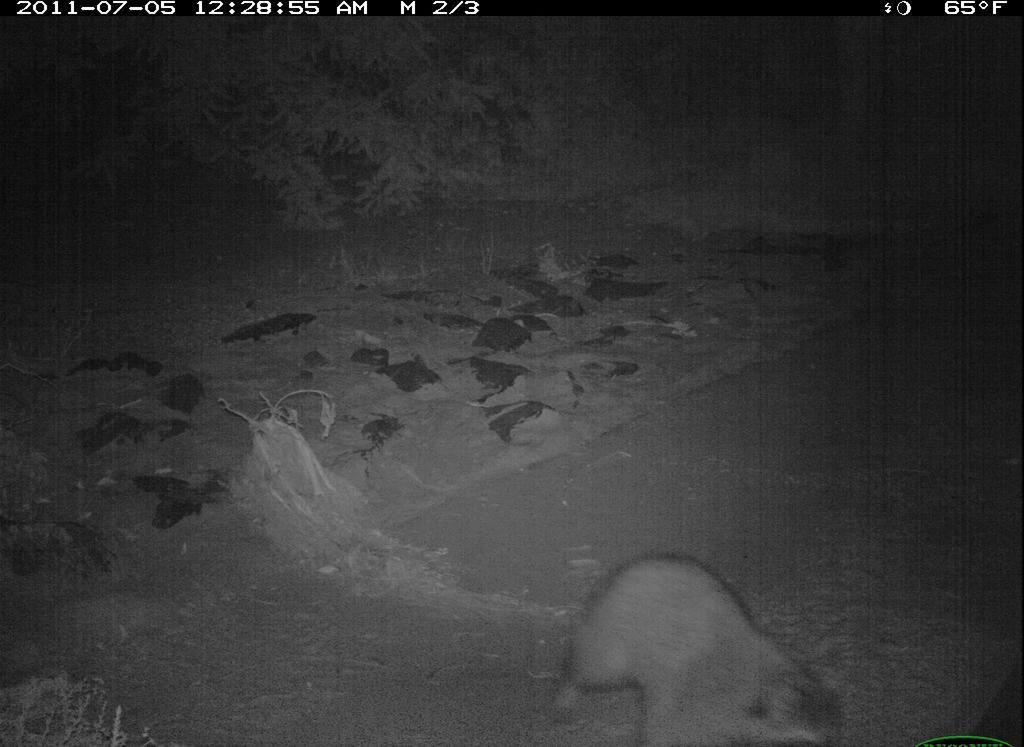raccoon: (553, 546, 858, 747)
